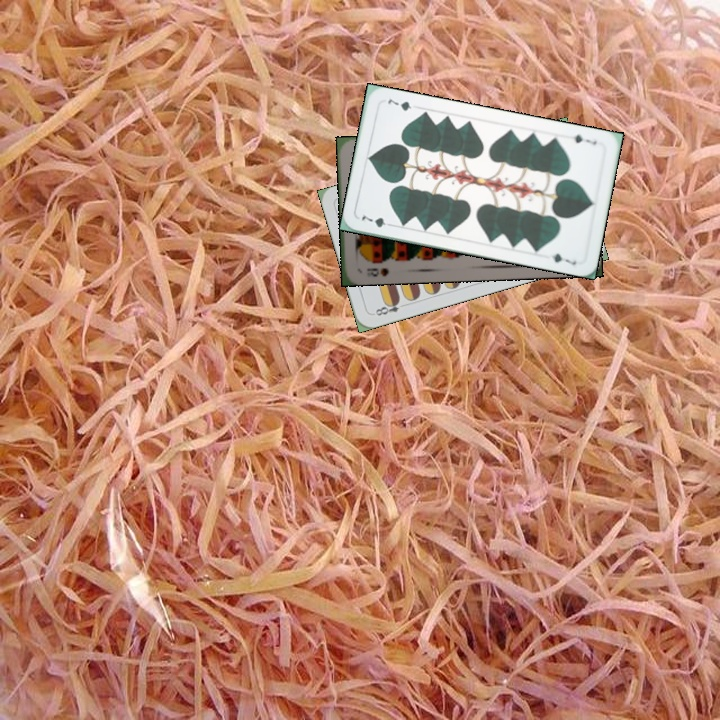E8: (369, 296, 409, 318)
G7: (358, 210, 397, 230), (565, 131, 599, 147)
S8: (363, 264, 391, 279)
